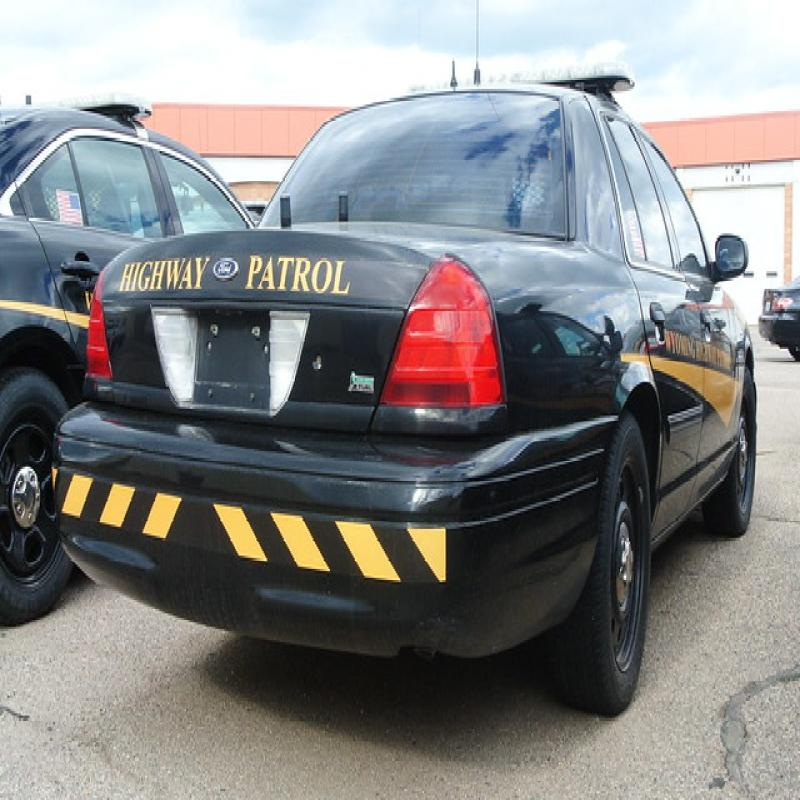AmbulanceSiren: (453, 22, 687, 178)
